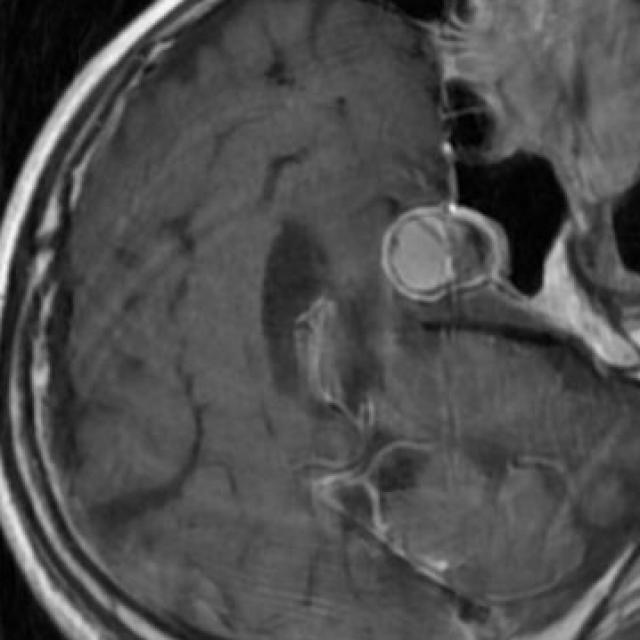pituitary: (383, 203, 503, 296)
